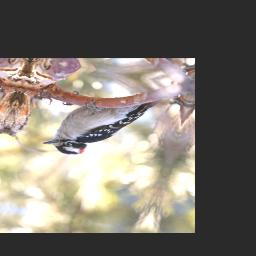Woodpecker: (40, 82, 160, 166)
